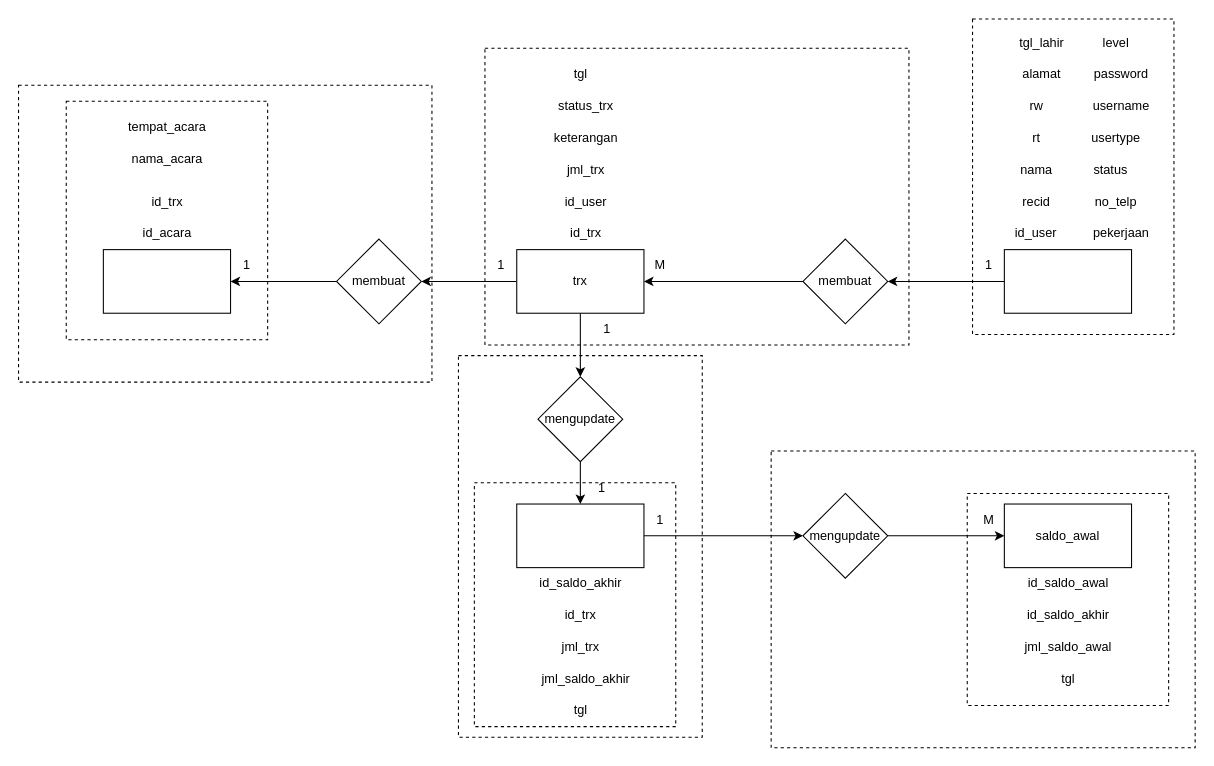
Some shapes in this 1214 by 766 pixel diagram are drawn without their labels. The shapes that lost their labels are listed below. From the top down, each one's box as (x1, y1, x2, y2) in pixels, then its label:
(102, 249, 231, 313): acara
(1003, 249, 1132, 313): user
(516, 503, 644, 568): saldo_akhir
